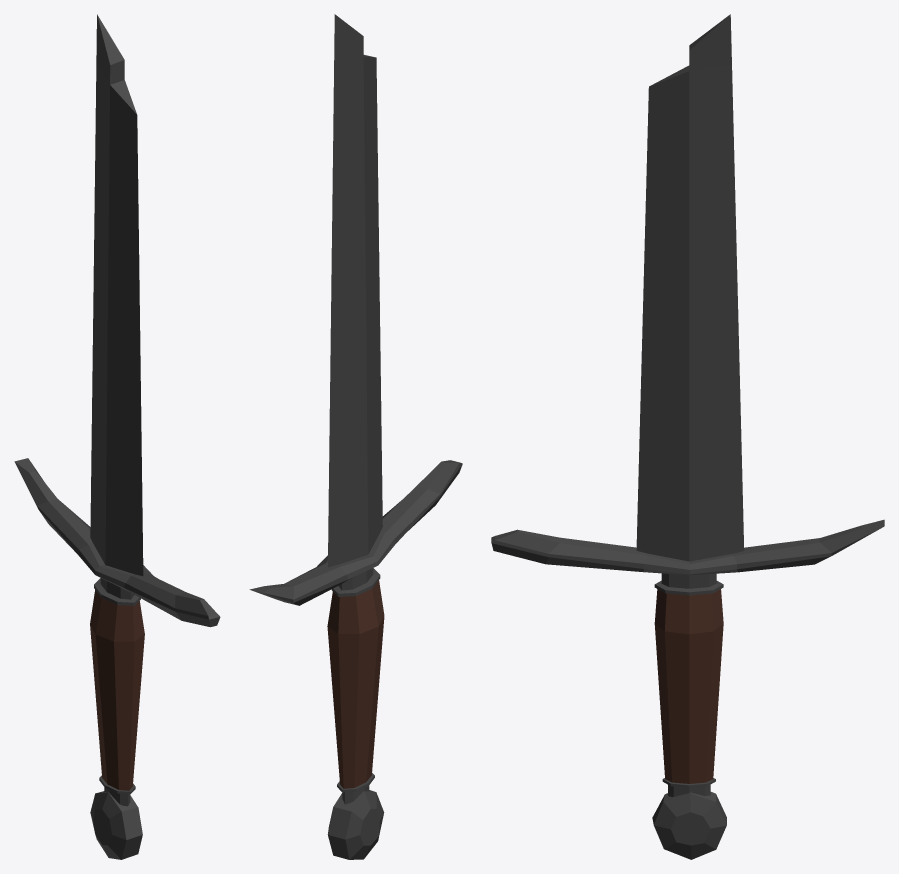
Rendered from broken_sword.gltf.
3 renders of one model, left to right at view 1: azimuth 30°, elevation 25°; view 2: azimuth 150°, elevation 25°; view 3: azimuth 270°, elevation 25°, orthographic. The views are drawn at different scales.
Visible parts, largest first — view 1: Cylinder; view 2: Cylinder; view 3: Cylinder.
Part boxes in pixels (box(x1,y1,x2,y2)): Cylinder: box(14, 14, 220, 859); Cylinder: box(249, 14, 462, 859); Cylinder: box(491, 14, 884, 859).
Bounding box in the file's own units: 0.0303 × 0.5468 × 0.2315.
